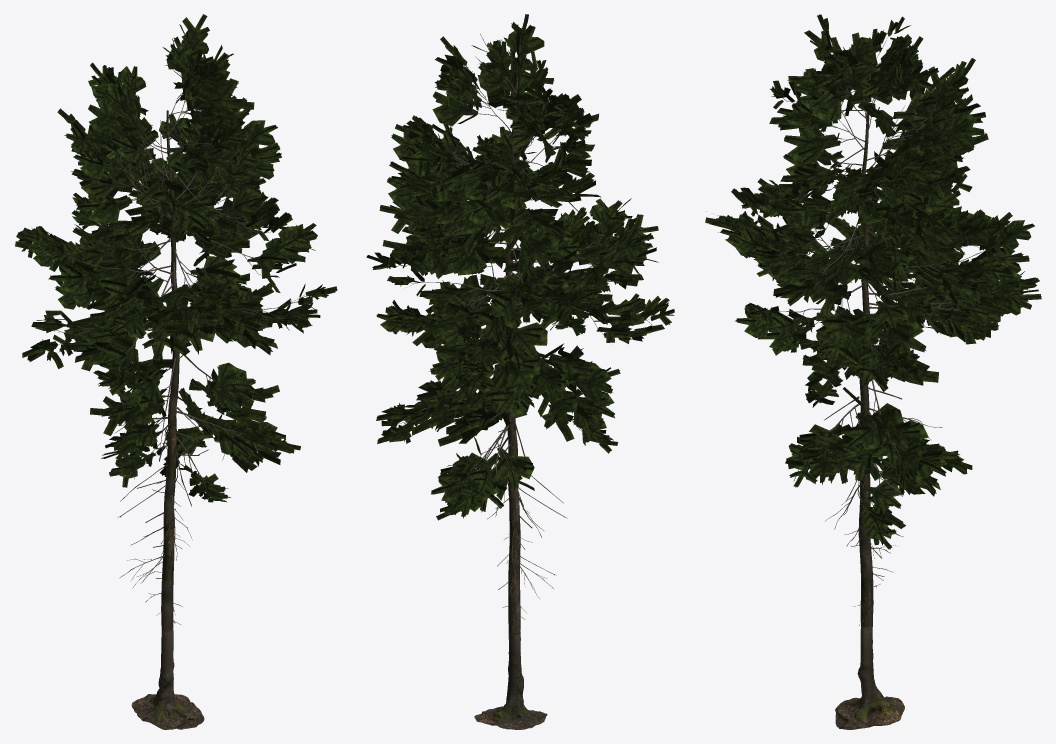
The model's file is fir-b-lod1.glb.
The picture shows the model from 3 angles, left to right: view 1: azimuth 30°, elevation 25°; view 2: azimuth 150°, elevation 25°; view 3: azimuth 270°, elevation 25°; orthographic projection. The views are drawn at different scales.
Visible parts, largest first — view 1: fir_b_lod1; view 2: fir_b_lod1; view 3: fir_b_lod1.
Boxes of the visible parts, left/top/right/bottom form: fir_b_lod1: left=15, top=14, right=337, bottom=729; fir_b_lod1: left=366, top=14, right=674, bottom=729; fir_b_lod1: left=705, top=14, right=1041, bottom=729.
Bounding box in the file's own units: 5.63 × 14.08 × 6.08.
4 materials, 4 textured.
